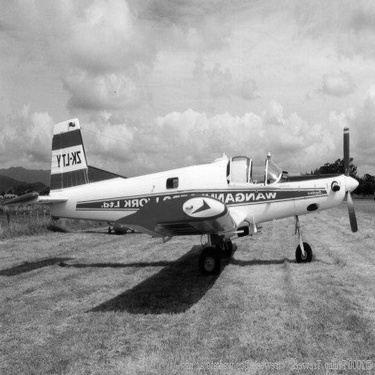airplane: (36, 102, 367, 277)
